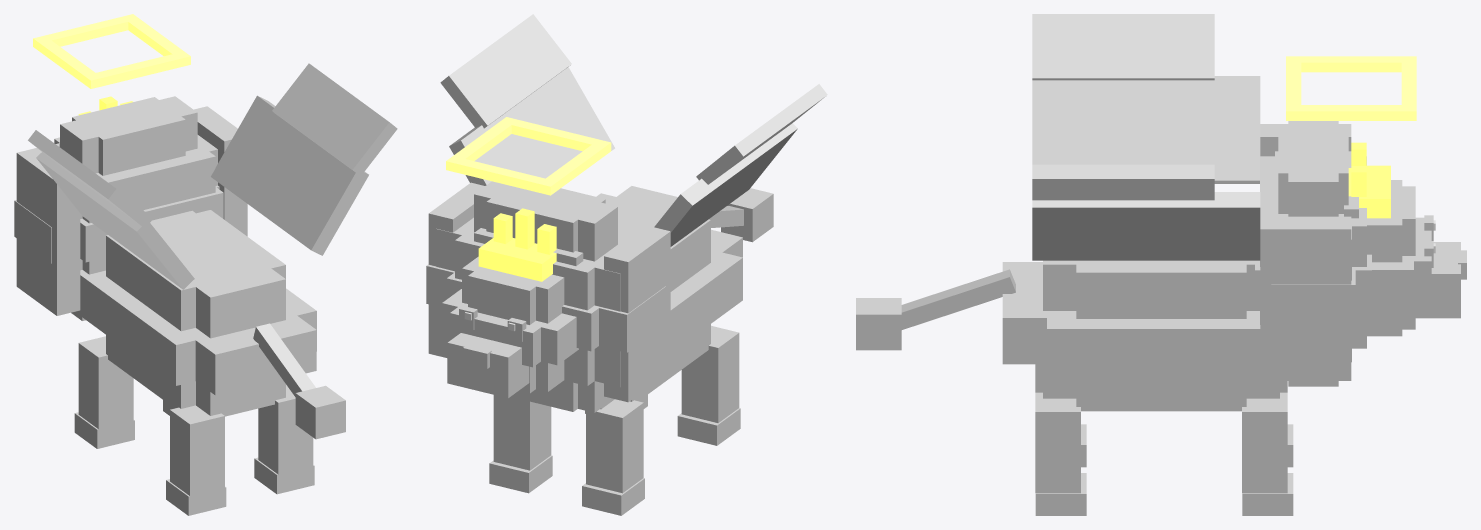
Rendered from AngelicLion.fbx.
3 renders of one model, left to right at view 1: azimuth 30°, elevation 25°; view 2: azimuth 150°, elevation 25°; view 3: azimuth 270°, elevation 25°, orthographic. The views are drawn at different scales.
Visible parts, largest first — view 1: Angelic Lion_wingR_46, Angelic Lion_body_5, Angelic Lion_body_2, Angelic Lion_head_25, Angelic Lion_wingR_48, Angelic Lion_body_4, Angelic Lion_body_3, Angelic Lion_head_23, Angelic Lion_wingL_47, Angelic Lion_legBL_10, Angelic Lion_head_21, Angelic Lion_legFL_6 (+17 smaller); view 2: Angelic Lion_wingR_48, Angelic Lion_wingR_46, Angelic Lion_head_25, Angelic Lion_legFL_6, Angelic Lion_wingL_47, Angelic Lion_head_22, Angelic Lion_body_2, Angelic Lion_legBL_10, Angelic Lion_legFR_8, Angelic Lion_head_32, Angelic Lion_head_18, Angelic Lion_body_4 (+32 smaller); view 3: Angelic Lion_wingL_47, Angelic Lion_wingR_46, Angelic Lion_wingL_49, Angelic Lion_body_2, Angelic Lion_head_24, Angelic Lion_body_4, Angelic Lion_wingR_48, Angelic Lion_body_0, Angelic Lion_head_22, Angelic Lion_legBR_12, Angelic Lion_legFR_8, Angelic Lion_body_3 (+22 smaller).
Boxes of the visible parts, <box> form: Angelic Lion_wingR_46: <box>211,95,368,255</box>; Angelic Lion_body_5: <box>150,210,285,338</box>; Angelic Lion_body_2: <box>75,270,316,385</box>; Angelic Lion_head_25: <box>16,148,80,315</box>; Angelic Lion_wingR_48: <box>272,63,397,175</box>; Angelic Lion_body_4: <box>106,210,285,331</box>; Angelic Lion_body_3: <box>195,308,316,395</box>; Angelic Lion_head_23: <box>72,97,185,175</box>; Angelic Lion_wingL_47: <box>36,152,194,289</box>; Angelic Lion_legBL_10: <box>170,405,224,496</box>; Angelic Lion_head_21: <box>82,144,215,223</box>; Angelic Lion_legFL_6: <box>78,336,133,429</box>; Angelic Lion_wingR_48: <box>440,14,571,128</box>; Angelic Lion_wingR_46: <box>449,67,614,185</box>; Angelic Lion_head_25: <box>604,225,670,402</box>; Angelic Lion_legFL_6: <box>586,399,643,493</box>; Angelic Lion_wingL_47: <box>654,123,797,246</box>; Angelic Lion_head_22: <box>474,181,617,261</box>; Angelic Lion_body_2: <box>670,250,742,352</box>; Angelic Lion_legBL_10: <box>681,325,739,422</box>; Angelic Lion_legFR_8: <box>493,395,551,470</box>; Angelic Lion_head_32: <box>447,333,529,398</box>; Angelic Lion_head_18: <box>426,264,665,352</box>; Angelic Lion_body_4: <box>596,193,710,291</box>; Angelic Lion_wingL_47: <box>1032,76,1260,183</box>; Angelic Lion_wingR_46: <box>1032,192,1260,260</box>; Angelic Lion_wingL_49: <box>1032,14,1214,80</box>; Angelic Lion_body_2: <box>1047,311,1260,374</box>; Angelic Lion_head_24: <box>1260,216,1351,380</box>; Angelic Lion_body_4: <box>1076,260,1246,318</box>; Angelic Lion_wingR_48: <box>1032,164,1214,200</box>; Angelic Lion_body_0: <box>1076,375,1246,411</box>; Angelic Lion_head_22: <box>1288,121,1338,216</box>; Angelic Lion_legBR_12: <box>1035,392,1080,493</box>; Angelic Lion_legFR_8: <box>1242,392,1287,493</box>; Angelic Lion_body_3: <box>1002,262,1076,364</box>.
Size of the model in its own units: 249 by 289 by 402.
